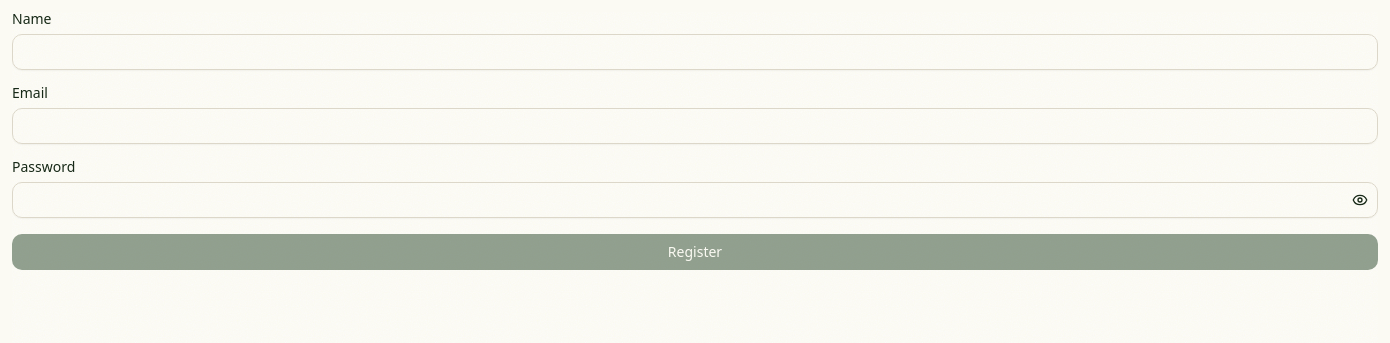
RegisterForm › validates required name field
The image size is (1390, 343).
Type "test@example.com" into the field labelled "Email" at (695,126), box [12,108,1378,144]
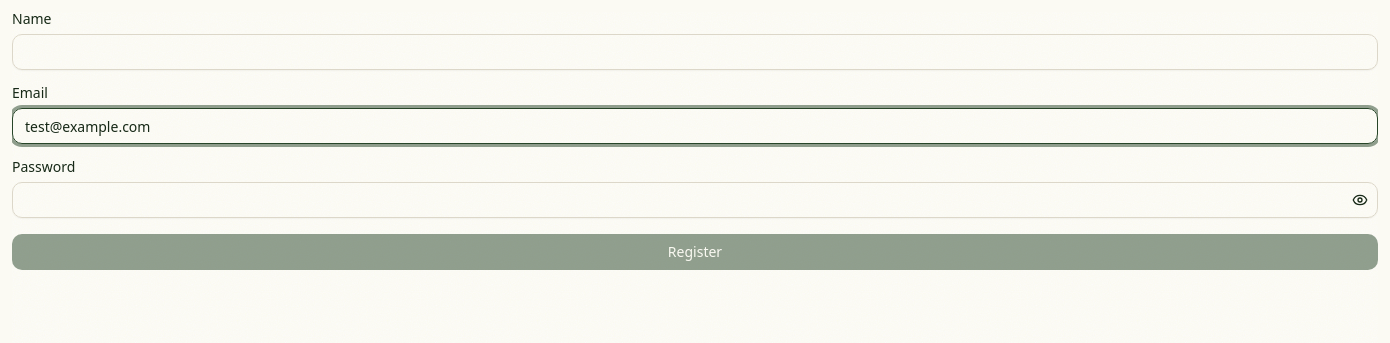
Type "password123" into the password field labelled "Password" at (695,200), box [12,182,1378,218]
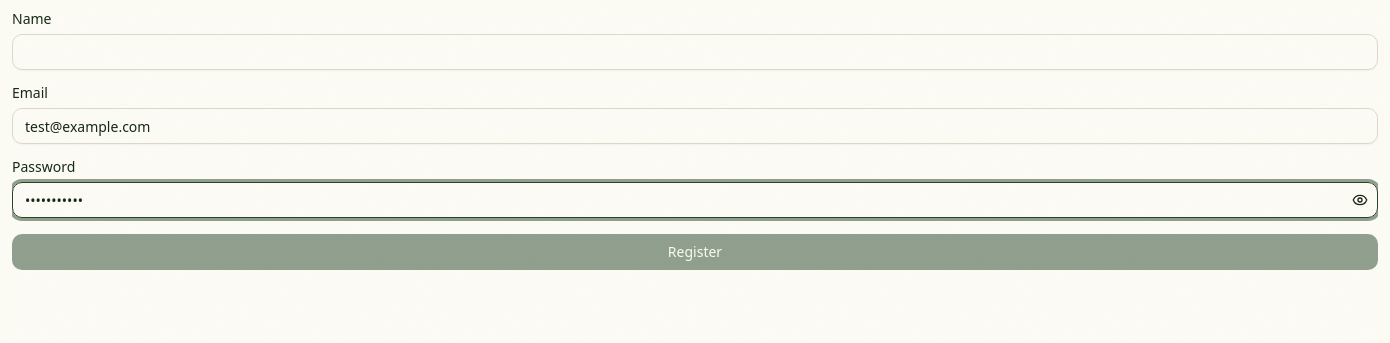
Submit the form with test id "register-form"
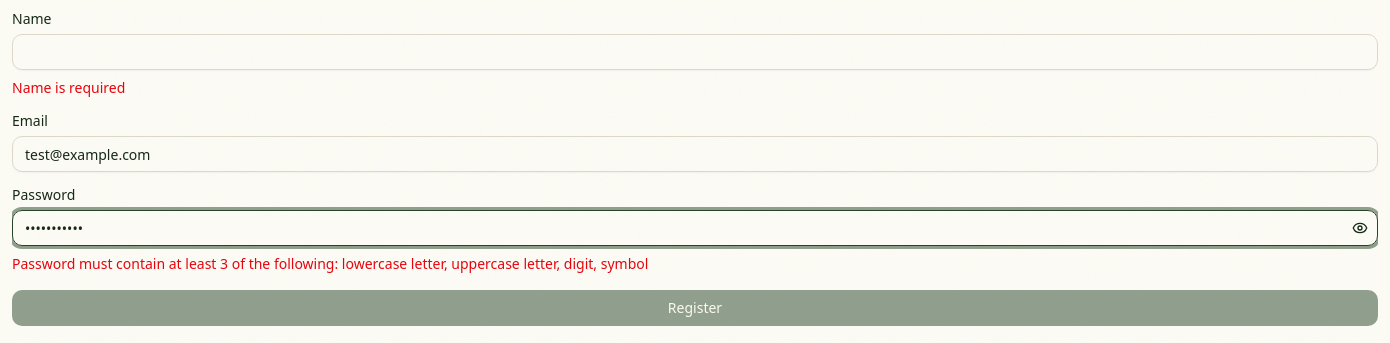
expect the text "Name is required" is shown: met, box [12,78,125,97]
